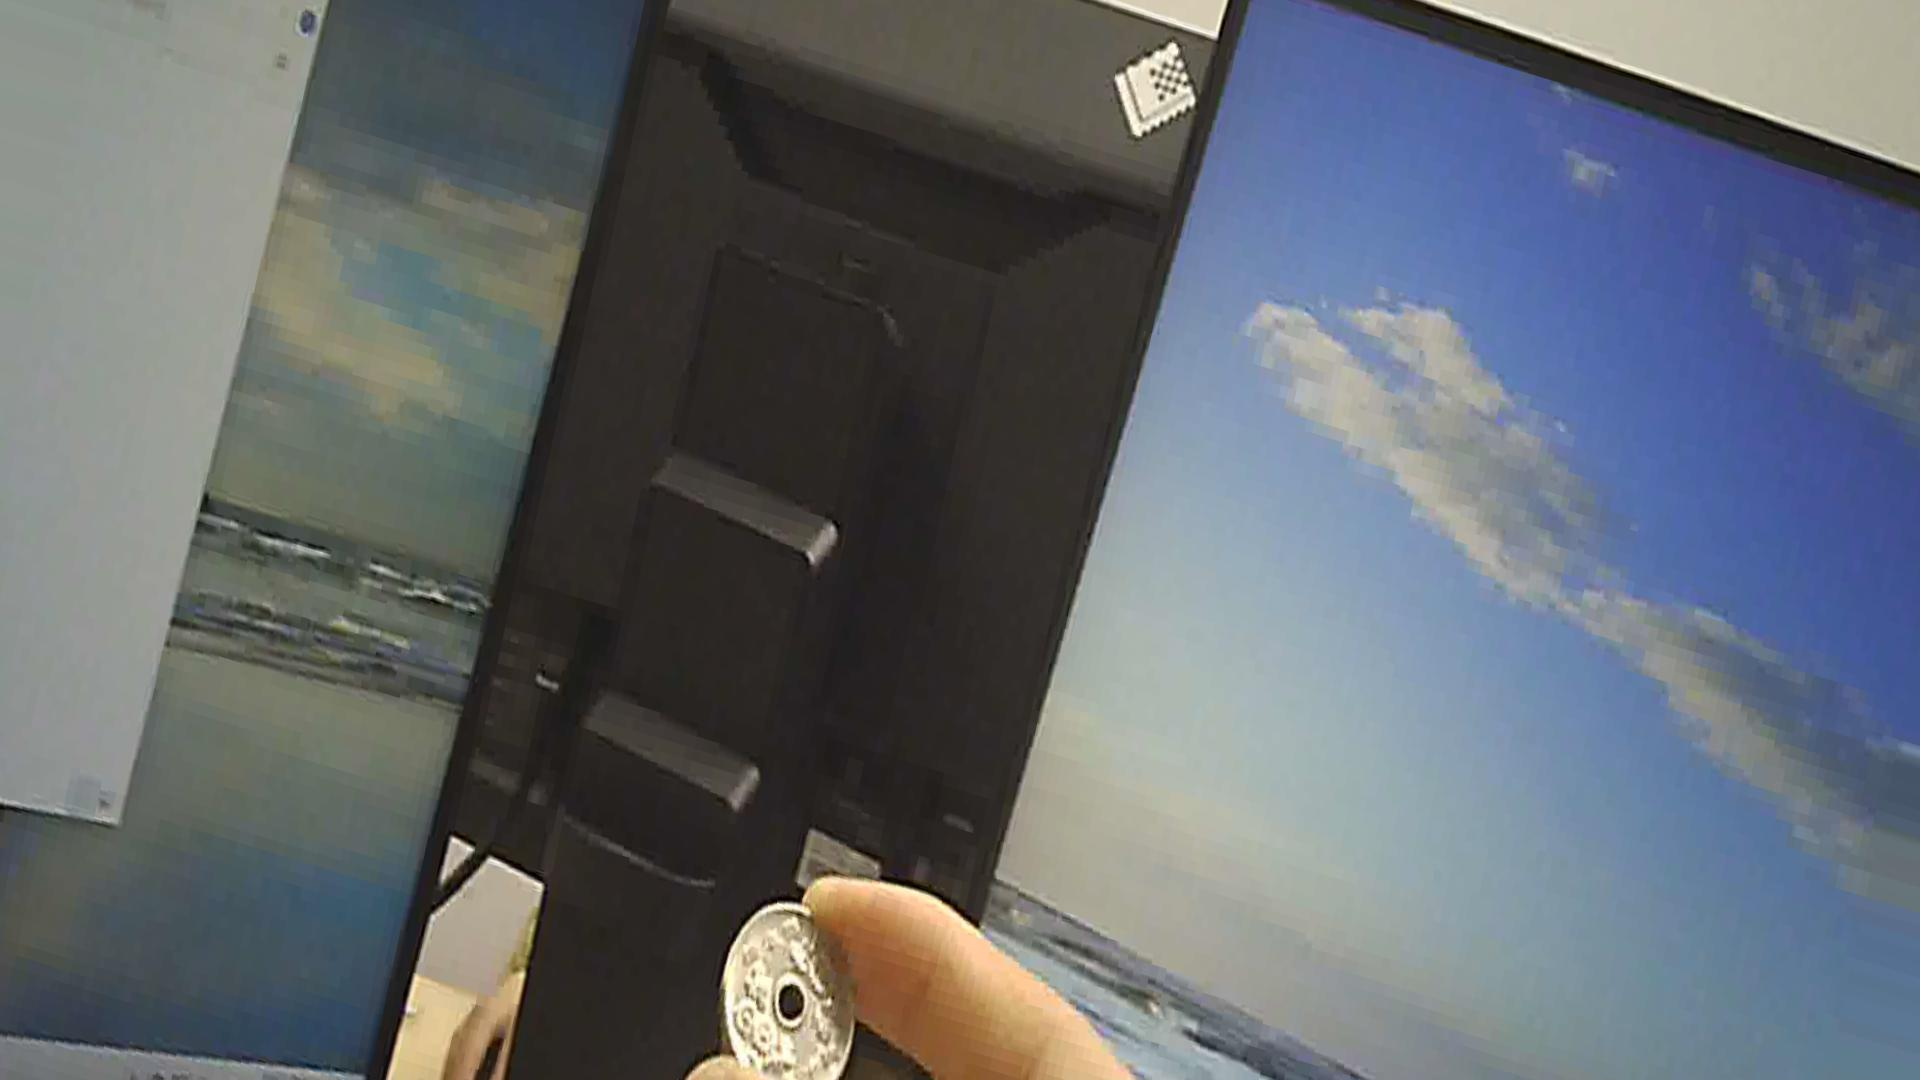50 Yen: (717, 894, 874, 1079)
